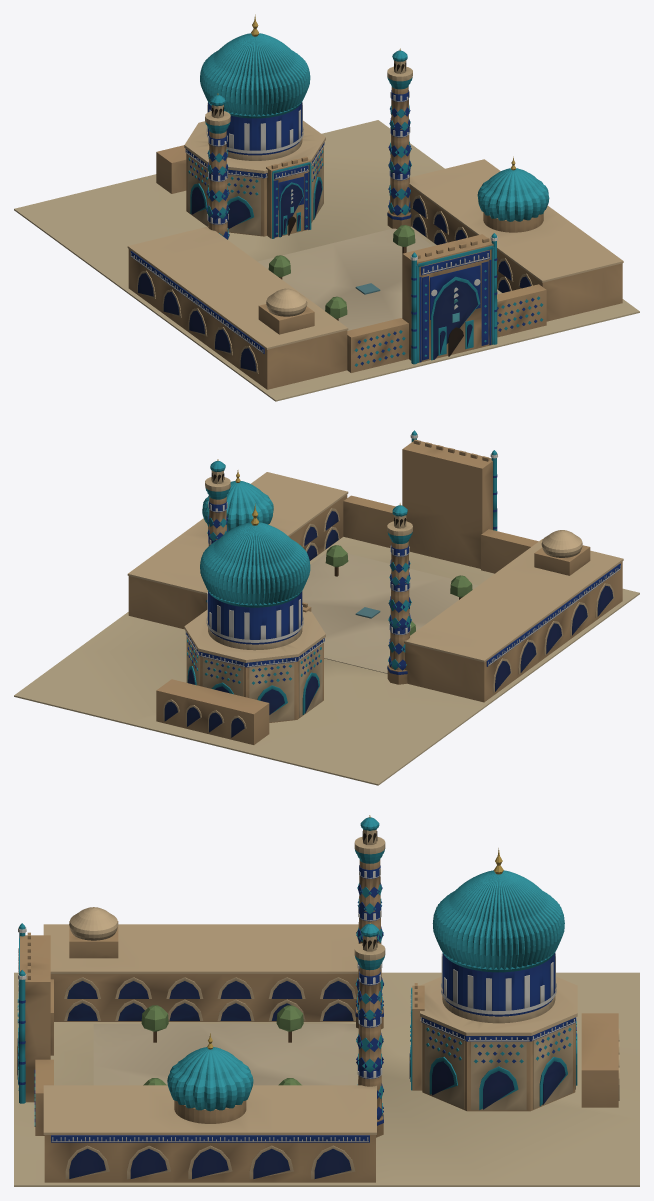
Rendered from gur-e-amir.glb.
3 renders of one model, top to bottom at view 1: azimuth 30°, elevation 25°; view 2: azimuth 150°, elevation 25°; view 3: azimuth 270°, elevation 25°, orthographic. The views are drawn at different scales.
Parts seen in each view (by area): view 1: p0_madrasa and khanaqah, p2_tomb, p1_portal, p3_minarets; view 2: p0_madrasa and khanaqah, p2_tomb, p1_portal, p3_minarets; view 3: p0_madrasa and khanaqah, p2_tomb, p3_minarets, p1_portal.
Boxes of the visible parts, x1,y1,x2,y2 form: p0_madrasa and khanaqah: (14, 120, 639, 401); p2_tomb: (156, 14, 325, 238); p1_portal: (402, 233, 497, 364); p3_minarets: (205, 48, 412, 239); p0_madrasa and khanaqah: (14, 470, 639, 785); p2_tomb: (156, 503, 325, 744); p1_portal: (402, 430, 497, 568); p3_minarets: (205, 459, 412, 684); p0_madrasa and khanaqah: (14, 907, 639, 1186); p2_tomb: (409, 848, 619, 1111); p3_minarets: (354, 815, 385, 1137); p1_portal: (17, 923, 50, 1103).
Bounding box in the file's own units: 82 × 41.92 × 102.
